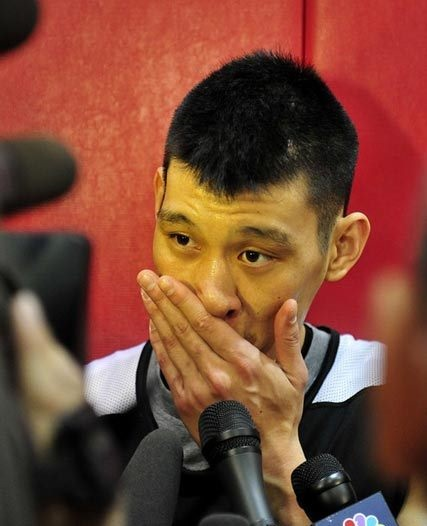face: (152, 144, 318, 386)
